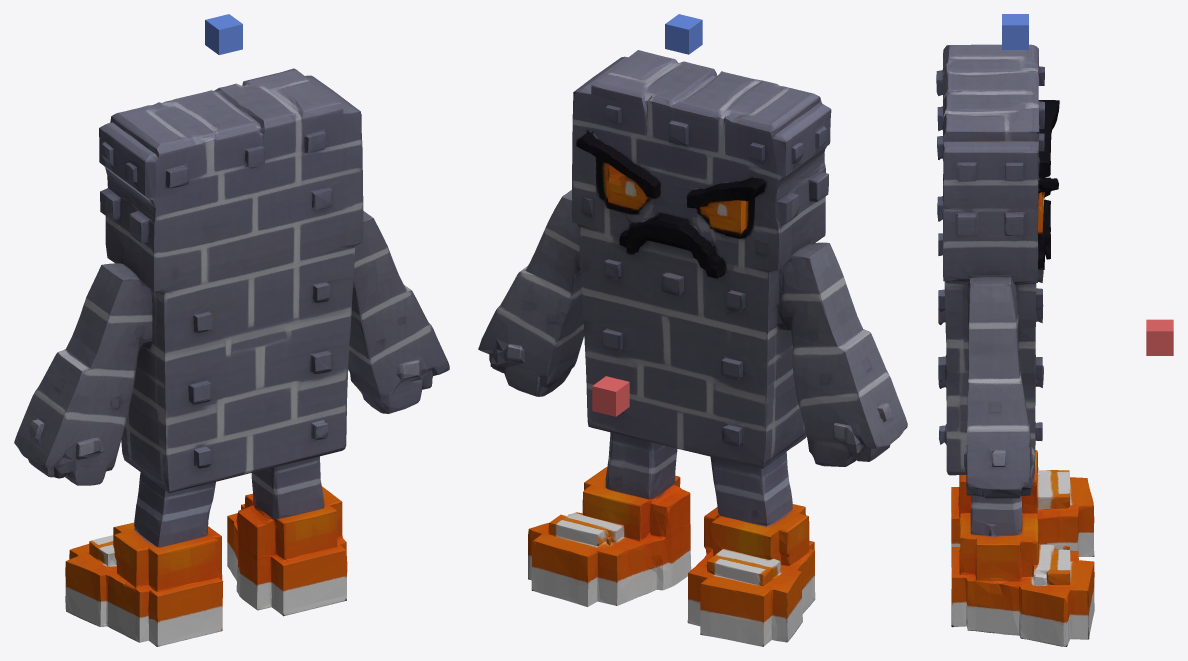
File: MattoncinoCattivo.glb
3 views of the same model, side by side, from view 1: azimuth 30°, elevation 25°; view 2: azimuth 150°, elevation 25°; view 3: azimuth 270°, elevation 25° (orthographic). The views are drawn at different scales.
Parts seen in each view (by area): view 1: MattoncinoCattivo_Body, MattoncinoCattivo_Leg2, MattoncinoCattivo_Leg1, MattoncinoCattivo_Top; view 2: MattoncinoCattivo_Body, MattoncinoCattivo_Leg1, MattoncinoCattivo_Leg2, MattoncinoCattivo_Top, MattoncinoCattivo_Front; view 3: MattoncinoCattivo_Body, MattoncinoCattivo_Leg1, MattoncinoCattivo_Leg2, MattoncinoCattivo_Front, MattoncinoCattivo_Top.
Part boxes in pixels (x1,y1,x2,y2): MattoncinoCattivo_Body: (14,68,449,492); MattoncinoCattivo_Leg2: (65,479,223,646); MattoncinoCattivo_Leg1: (227,456,347,616); MattoncinoCattivo_Top: (205,14,242,54); MattoncinoCattivo_Body: (478,50,907,475); MattoncinoCattivo_Leg1: (528,432,691,606); MattoncinoCattivo_Leg2: (687,453,815,646); MattoncinoCattivo_Top: (665,14,702,54); MattoncinoCattivo_Front: (592,376,629,416); MattoncinoCattivo_Body: (936,44,1059,498); MattoncinoCattivo_Leg1: (951,495,1094,646); MattoncinoCattivo_Leg2: (951,450,1094,566); MattoncinoCattivo_Front: (1146,319,1173,355); MattoncinoCattivo_Top: (1002,14,1028,49).
Bounding box in the file's own units: 4.24 × 5.72 × 2.18.
Materials: 1 (1 with a texture image).
